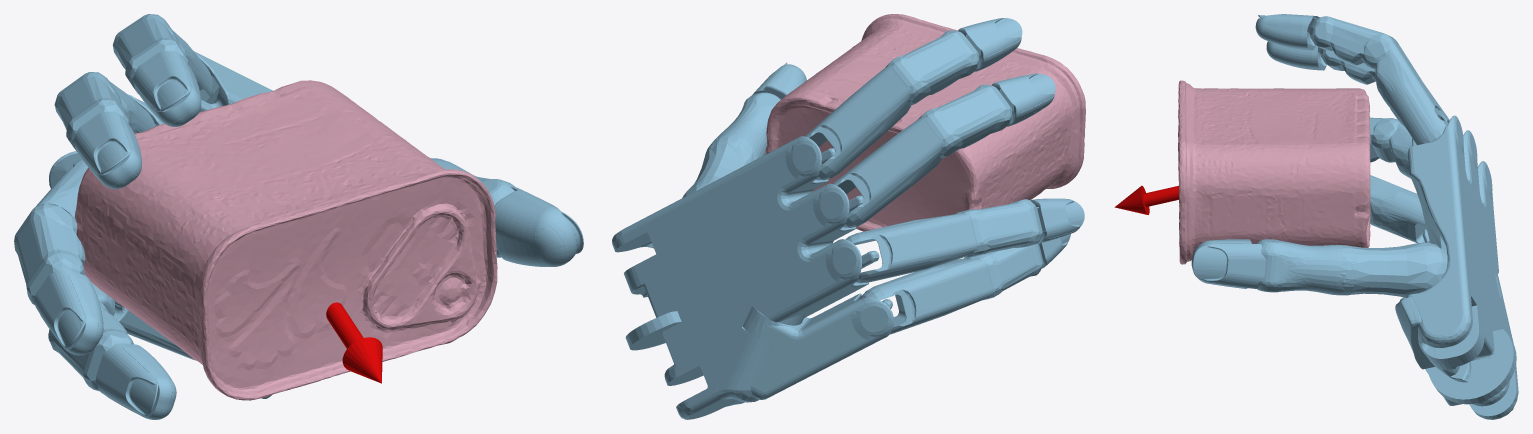
3 views of the same model, side by side, from view 1: azimuth 30°, elevation 25°; view 2: azimuth 150°, elevation 25°; view 3: azimuth 270°, elevation 25° (orthographic). The views are drawn at different scales.
Visible parts, largest first — view 1: potted_meat_can.stl, world; view 2: world, potted_meat_can.stl; view 3: world, potted_meat_can.stl.
Part boxes in pixels (<box>): potted_meat_can.stl: <box>75,80,497,400</box>; world: <box>14,14,583,419</box>; world: <box>612,18,1084,419</box>; potted_meat_can.stl: <box>765,14,1085,231</box>; world: <box>1114,14,1518,419</box>; potted_meat_can.stl: <box>1178,80,1370,264</box>.
Size of the model in its own units: 0.1685 by 0.1568 by 0.1754.
